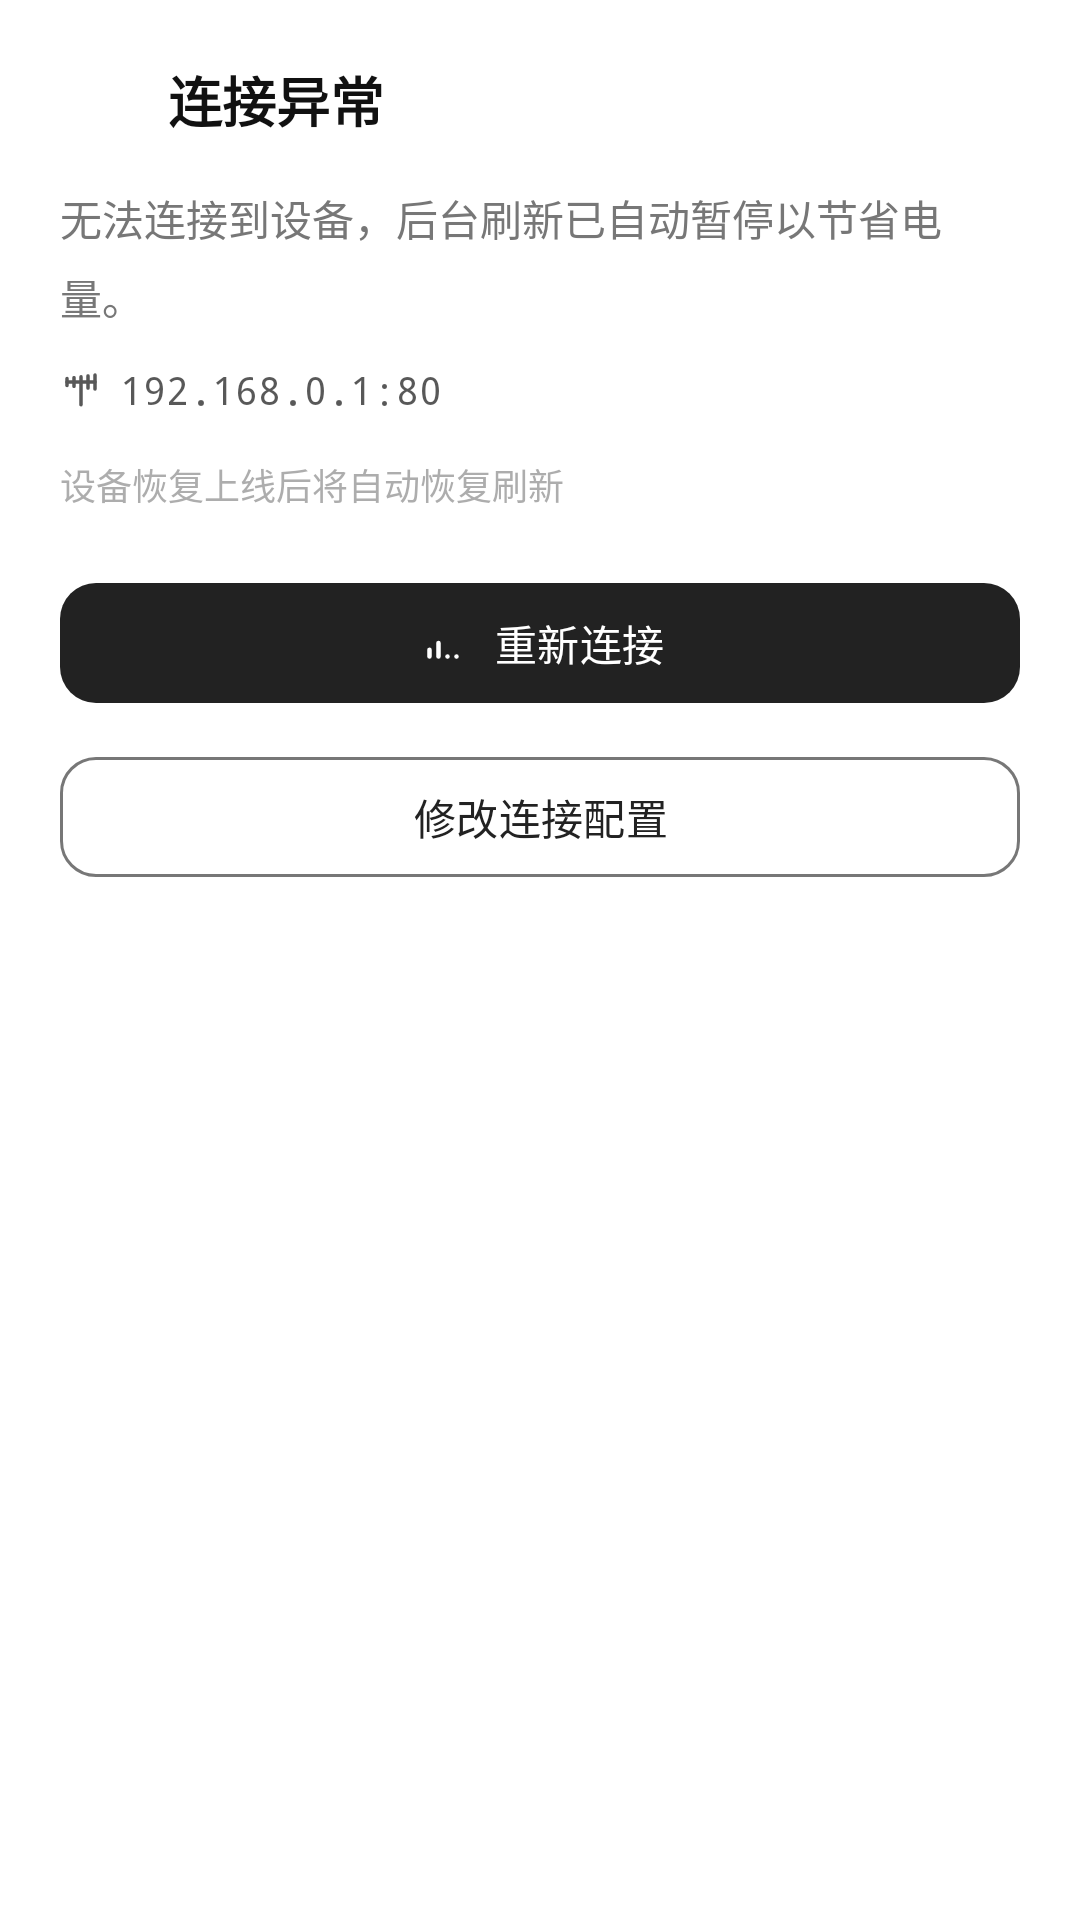

Icon click points for this 1080w x 1920h phone screenshot, format [x,y]:
antenna: [81,390]
